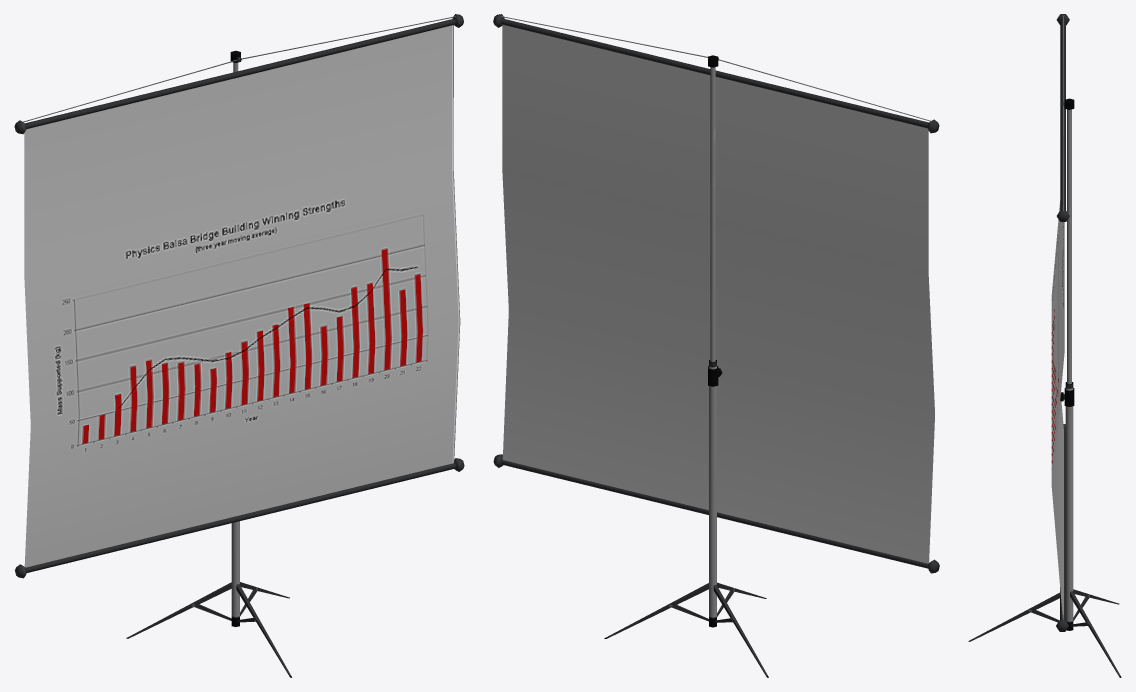
Rendered from presentation_stand-3.FBX.
The picture shows the model from 3 angles, left to right: view 1: azimuth 30°, elevation 25°; view 2: azimuth 150°, elevation 25°; view 3: azimuth 270°, elevation 25°; orthographic projection. The views are drawn at different scales.
Parts seen in each view (by area): view 1: presentation_stand-3_LOD0; view 2: presentation_stand-3_LOD0; view 3: presentation_stand-3_LOD0.
Part boxes in pixels (<box>): presentation_stand-3_LOD0: <box>14,14,464,677</box>; presentation_stand-3_LOD0: <box>493,14,939,677</box>; presentation_stand-3_LOD0: <box>968,14,1121,677</box>.
Bounding box in the file's own units: 73.34 × 92.2 × 23.75.
